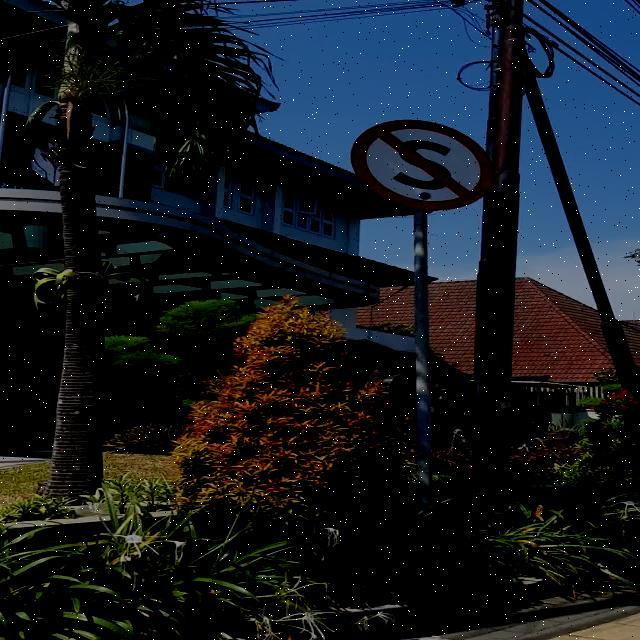Dilarang Berhenti: (351, 120, 494, 210)
